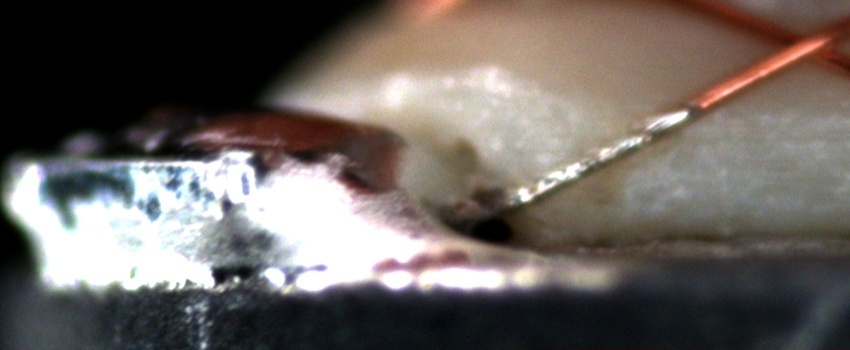CL: (756, 15, 842, 75)
DL: (677, 100, 850, 164)
TS: (499, 105, 693, 211)
